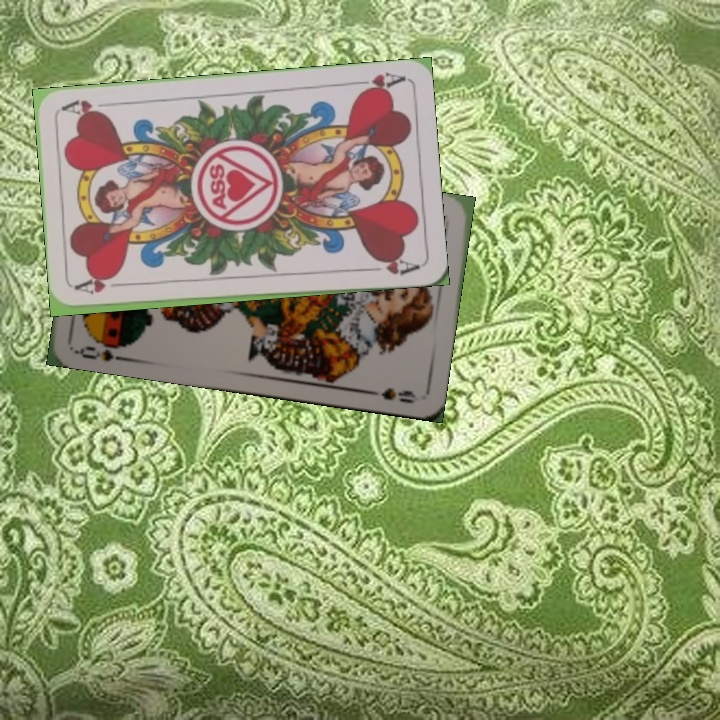HA: (347, 67, 407, 97), (73, 277, 132, 297)
SO: (73, 335, 134, 364)
